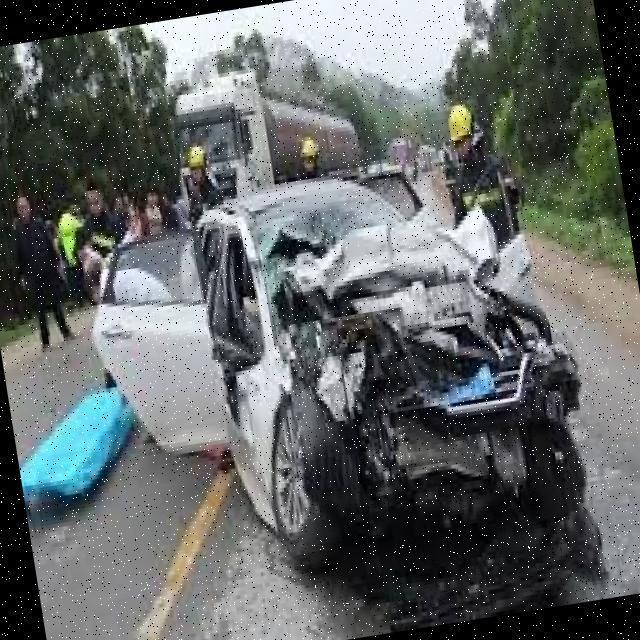accident: (196, 157, 616, 636)
